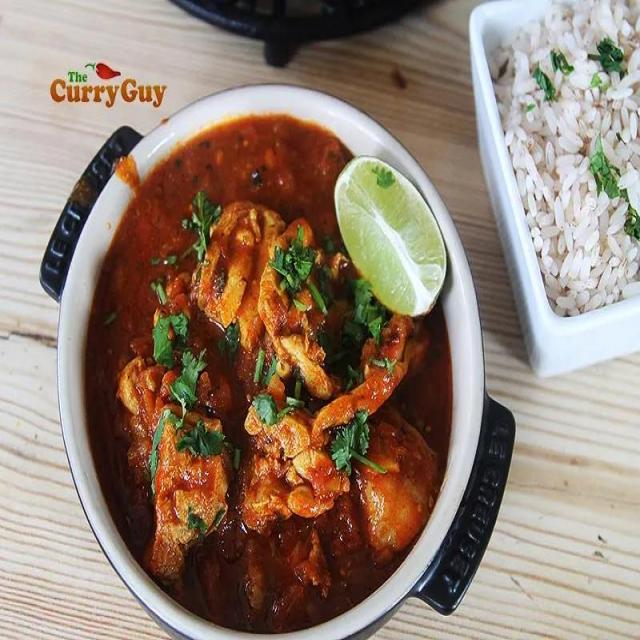chicken: (87, 115, 457, 616)
rice: (484, 5, 640, 319)
